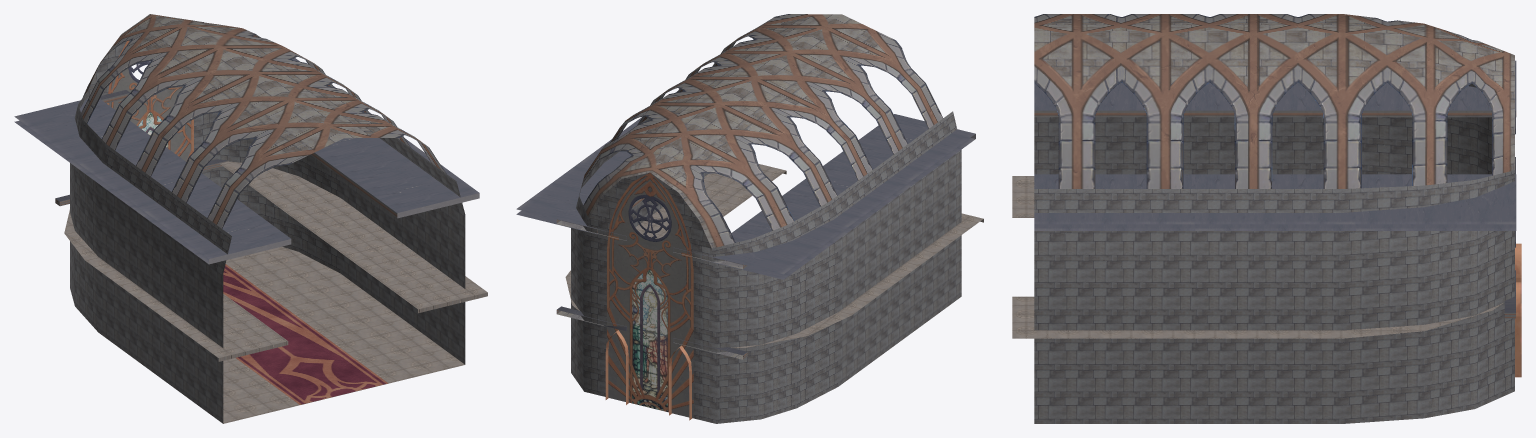
File: Recruit_Wall_01.FBX
3 views of the same model, side by side, from view 1: azimuth 30°, elevation 25°; view 2: azimuth 150°, elevation 25°; view 3: azimuth 270°, elevation 25° (orthographic). The views are drawn at different scales.
Visible parts, largest first — view 1: Recruit_Wall_01_03, Recruit_Wall_01_02, Recruit_Wall_01_01; view 2: Recruit_Wall_01_03, Recruit_Wall_01_02, Recruit_Wall_01_01; view 3: Recruit_Wall_01_02, Recruit_Wall_01_03, Recruit_Wall_01_01.
Boxes of the visible parts, left/top/right/bottom form: Recruit_Wall_01_03: left=14, top=14, right=479, bottom=404; Recruit_Wall_01_02: left=70, top=41, right=465, bottom=423; Recruit_Wall_01_01: left=64, top=161, right=487, bottom=423; Recruit_Wall_01_03: left=516, top=14, right=975, bottom=420; Recruit_Wall_01_02: left=571, top=111, right=961, bottom=423; Recruit_Wall_01_01: left=565, top=164, right=983, bottom=347; Recruit_Wall_01_02: left=1034, top=83, right=1514, bottom=423; Recruit_Wall_01_03: left=1034, top=14, right=1521, bottom=377; Recruit_Wall_01_01: left=1012, top=176, right=1503, bottom=338.
Size of the model in its own units: 28.54 by 25.88 by 37.56.
